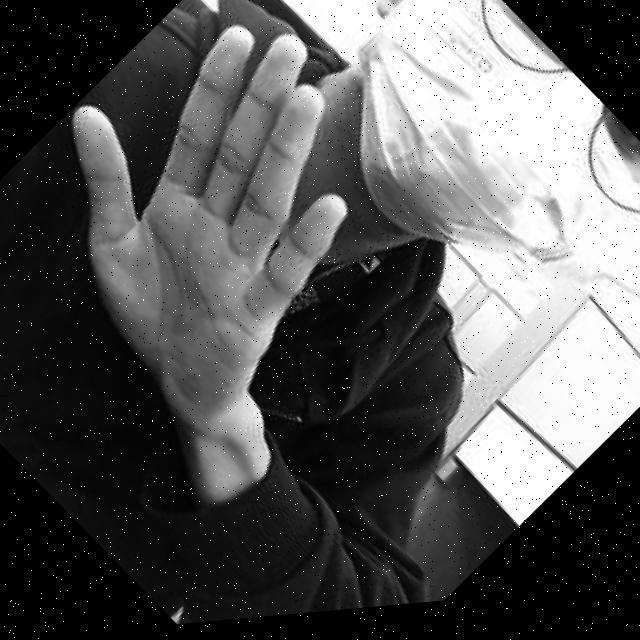no-gloves: (0, 0, 450, 453)
